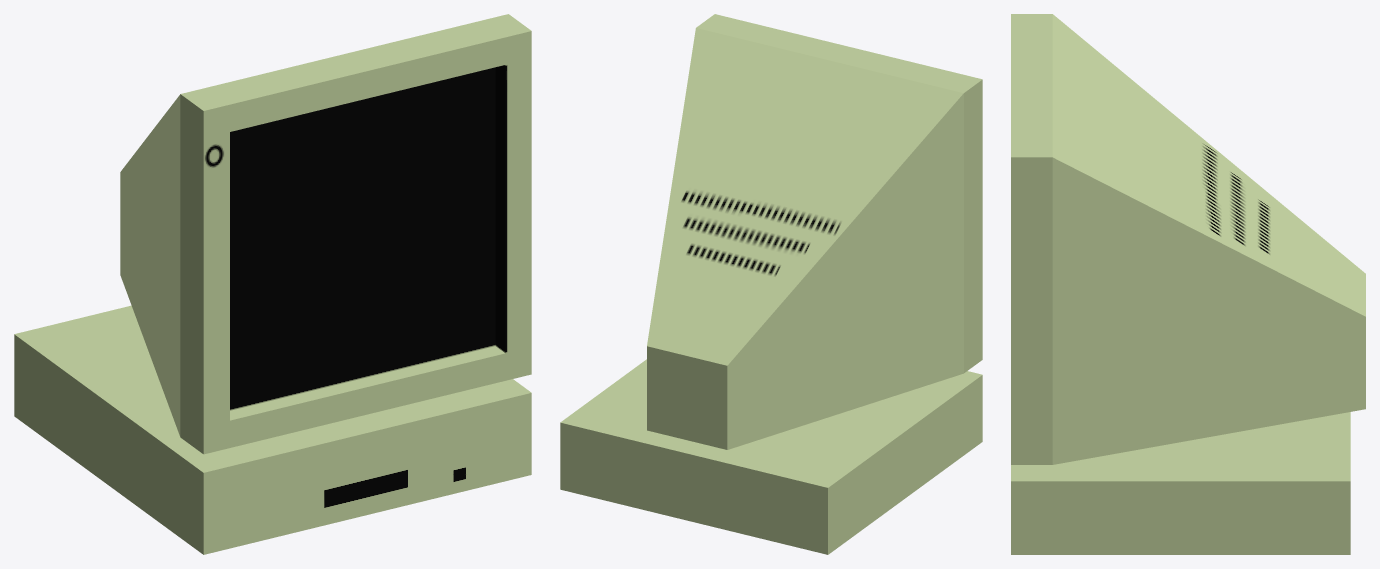
File: monitori&computer.fbx
3 views of the same model, side by side, from view 1: azimuth 30°, elevation 25°; view 2: azimuth 150°, elevation 25°; view 3: azimuth 270°, elevation 25° (orthographic). The views are drawn at different scales.
Visible parts, largest first — view 1: Monitor, Computer; view 2: Monitor, Computer; view 3: Monitor, Computer.
Boxes of the visible parts, left/top/right/bottom form: Monitor: left=120, top=14, right=531, bottom=454; Computer: left=14, top=305, right=531, bottom=554; Monitor: left=647, top=14, right=982, bottom=449; Computer: left=560, top=359, right=982, bottom=554; Monitor: left=1011, top=14, right=1365, bottom=464; Computer: left=1011, top=412, right=1350, bottom=554.
Bounding box in the file's own units: 200 × 259 × 209.
2 materials, 2 textured.
